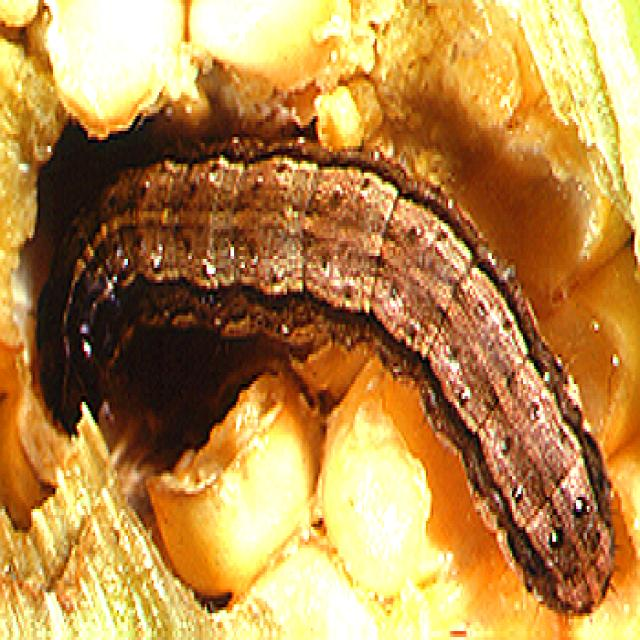cornborer-Larva-: (39, 130, 624, 621)
